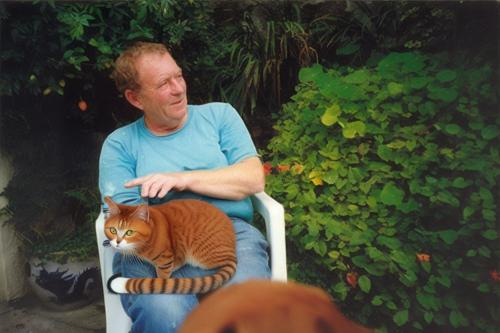cat: (104, 196, 236, 294)
chair: (96, 190, 291, 333)
person: (97, 41, 271, 333)
person/hand: (151, 227, 202, 278), (129, 174, 184, 208)
person/head: (111, 44, 188, 128)
pottedplant: (4, 110, 109, 309)
